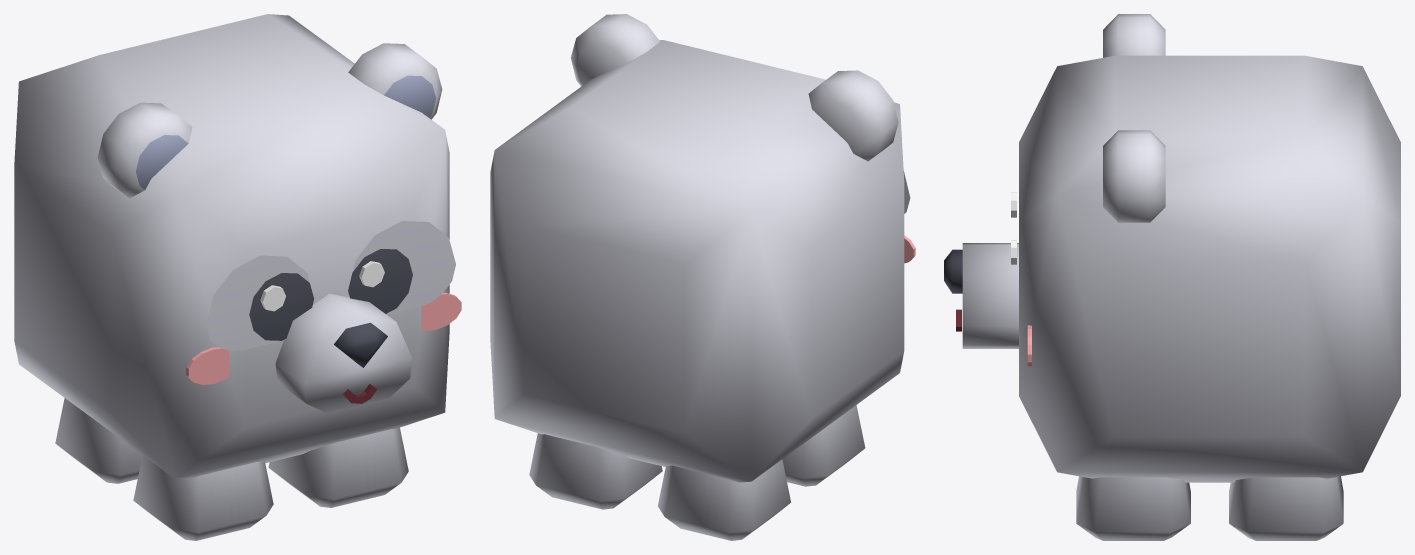
The model's file is polar.glb.
3 renders of one model, left to right at view 1: azimuth 30°, elevation 25°; view 2: azimuth 150°, elevation 25°; view 3: azimuth 270°, elevation 25°, orthographic. The views are drawn at different scales.
Parts seen in each view (by area): view 1: body, leg-front-right, leg-front-left, leg-back-right; view 2: body, leg-back-right, leg-back-left, leg-front-right; view 3: body, leg-back-left, leg-front-left.
Part boxes in pixels (x1,y1,x2,y2): body: (14,14,461,479); leg-front-right: (133,455,273,540); leg-front-left: (268,427,408,507); leg-back-right: (55,398,142,483); body: (490,14,915,482); leg-back-right: (658,459,790,540); leg-back-left: (529,433,662,509); leg-front-right: (782,405,865,486); body: (944,14,1400,482); leg-back-left: (1229,476,1343,540); leg-front-left: (1076,476,1190,540).
Bounding box in the file's own units: 1.25 × 1.5 × 1.5.
Materials: 1 (1 with a texture image).
